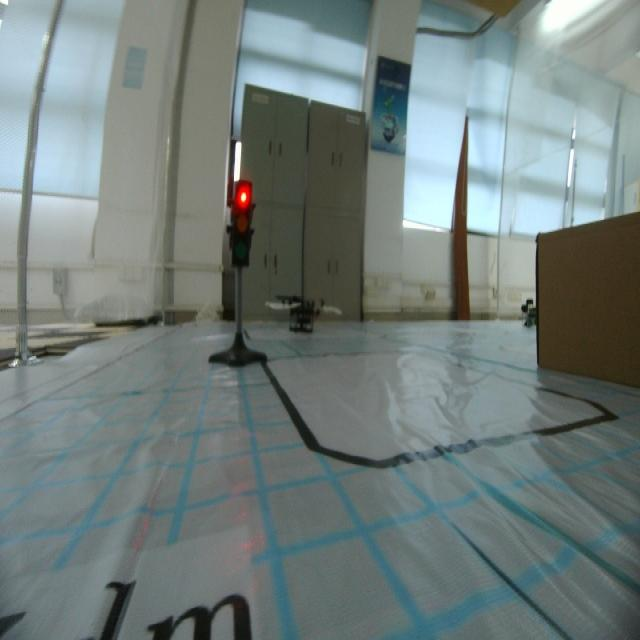red: (226, 178, 256, 276)
